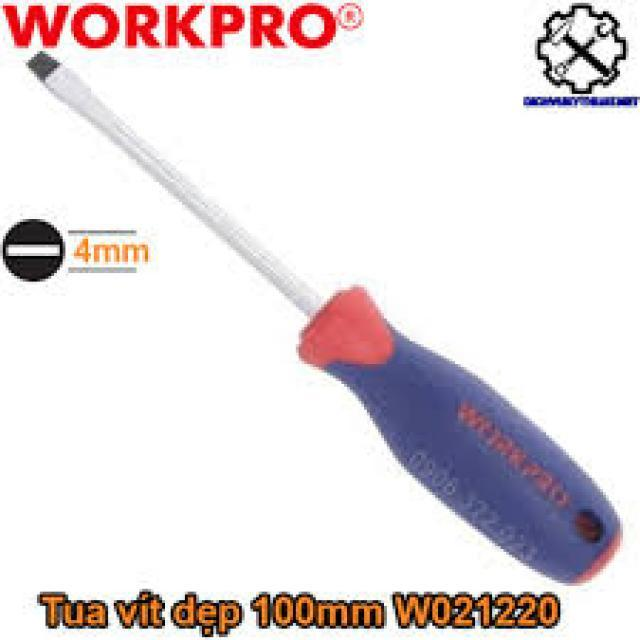screwdriver: (23, 50, 626, 588)
